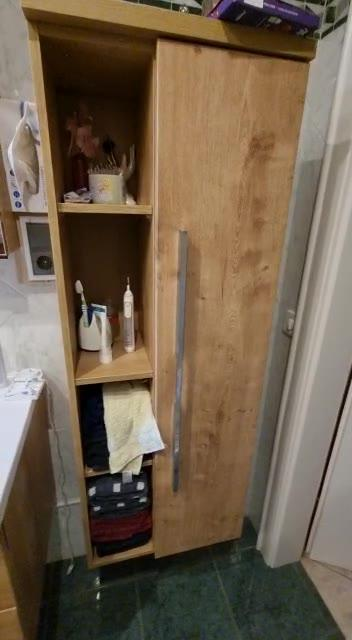cabinet_door: (158, 47, 287, 551)
handle: (165, 228, 190, 496)
